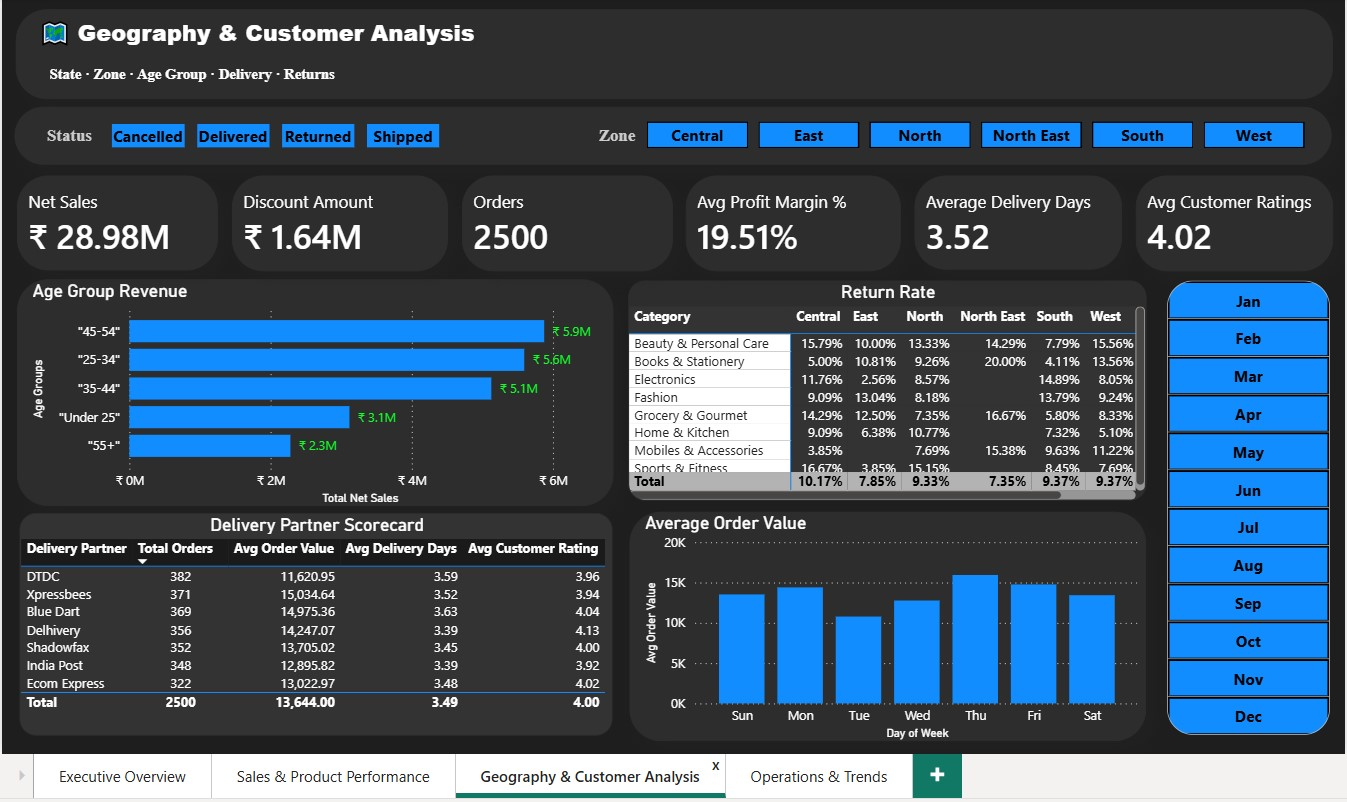

The page's visual inventory and layout, read from the dashboard file:
{"tool":"powerbi","page":{"name":"Geography & Customer Analysis","canvas":[1280,720],"ordinal":2},"visuals":[{"type":"shape","box":[13.4,11,1254.6,85.3],"z":0},{"type":"columnChart","title":"Average Order Value","fields":{"Category":["Date Table.Day of Week"],"Y":["Core KPI Measures.Avg Order Value"]},"box":[597.9,489.9,492.3,218.5],"z":1000},{"type":"shape","box":[12.2,103.6,1254.6,54.9],"z":2000},{"type":"textbox","box":[36.3,18.2,671.6,35.1],"z":3000},{"type":"textbox","box":[44.8,62.9,382.4,20.6],"z":4000},{"type":"textbox","box":[43.3,121.4,66.3,20.9],"z":5000},{"type":"clusteredBarChart","title":"Age Group Revenue","fields":{"Y":["Core KPI Measures.Total Net Sales"],"Category":["ecommerce_sales_clean_csv.age_group"]},"box":[14.7,267.4,567.9,215.9],"z":6000},{"type":"advancedSlicerVisual","fields":{"Values":["ecommerce_sales_clean_csv.order_status"]},"box":[103.5,118.9,314.3,24.6],"z":7000},{"type":"textbox","box":[563.9,121.4,46.7,20.9],"z":8000},{"type":"advancedSlicerVisual","fields":{"Values":["ecommerce_sales_clean_csv.zone"]},"box":[613.8,118.4,630.4,25.4],"z":9000},{"type":"pivotTable","title":"Return Rate","fields":{"Rows":["ecommerce_sales_clean_csv.category"],"Columns":["ecommerce_sales_clean_csv.zone"],"Values":["Rate Measures.Return Rate %"]},"box":[596.7,268.9,493.5,209.9],"z":10000},{"type":"tableEx","title":"Delivery Partner Scorecard","fields":{"Values":["ecommerce_sales_clean_csv.delivery_partner","Core KPI Measures.Total Orders","Core KPI Measures.Avg Order Value","Core KPI Measures.Avg Delivery Days","Core KPI Measures.Avg Customer Rating"]},"box":[16.9,490.1,565.1,211.8],"z":11000},{"type":"cardVisual","fields":{"Data":["Avg(ecommerce_sales_clean_csv.customer_rating)"]},"box":[1079.6,168.7,187.7,90.9],"z":12000},{"type":"cardVisual","fields":{"Data":["Avg(ecommerce_sales_clean_csv.delivery_days)"]},"box":[869.2,169.3,197.3,89.7],"z":13000},{"type":"cardVisual","fields":{"Data":["Sum(ecommerce_sales_clean_csv.net_sales)"]},"box":[14.3,168.8,191.2,90.8],"z":14000},{"type":"cardVisual","fields":{"Data":["Sum(ecommerce_sales_clean_csv.discount_amount)"]},"box":[218.7,168.7,205.6,90.9],"z":15000},{"type":"cardVisual","fields":{"Data":["CountNonNull(ecommerce_sales_clean_csv.order_id)"]},"box":[437.5,168.7,200.9,90.9],"z":16000},{"type":"cardVisual","fields":{"Data":["Core KPI Measures.Avg Profit Margin all %"]},"box":[651.6,168.7,204.4,90.9],"z":17000},{"type":"advancedSlicerVisual","fields":{"Values":["Date Table.Month Name"]},"box":[1109.8,268.9,155.9,438.3],"z":18000}]}

Visuals, with their boxes on the page's 1280x720 design canvas (x1, y1, x2, y2). These are canvas units, not pixel positions in the 1347x802 screenshot, which may show the page scaled, cropped or inside an application window:
shape: (13,11,1268,96)
"Average Order Value" columnChart: (598,490,1090,708)
shape: (12,104,1267,158)
textbox: (36,18,708,53)
textbox: (45,63,427,84)
textbox: (43,121,110,142)
"Age Group Revenue" clusteredBarChart: (15,267,583,483)
advancedSlicerVisual - ecommerce_sales_clean_csv.order_status: (104,119,418,144)
textbox: (564,121,611,142)
advancedSlicerVisual - ecommerce_sales_clean_csv.zone: (614,118,1244,144)
"Return Rate" pivotTable: (597,269,1090,479)
"Delivery Partner Scorecard" tableEx: (17,490,582,702)
cardVisual - Avg(ecommerce_sales_clean_csv.customer_rating): (1080,169,1267,260)
cardVisual - Avg(ecommerce_sales_clean_csv.delivery_days): (869,169,1066,259)
cardVisual - Sum(ecommerce_sales_clean_csv.net_sales): (14,169,206,260)
cardVisual - Sum(ecommerce_sales_clean_csv.discount_amount): (219,169,424,260)
cardVisual - CountNonNull(ecommerce_sales_clean_csv.order_id): (438,169,638,260)
cardVisual - Core KPI Measures.Avg Profit Margin all %: (652,169,856,260)
advancedSlicerVisual - Date Table.Month Name: (1110,269,1266,707)
